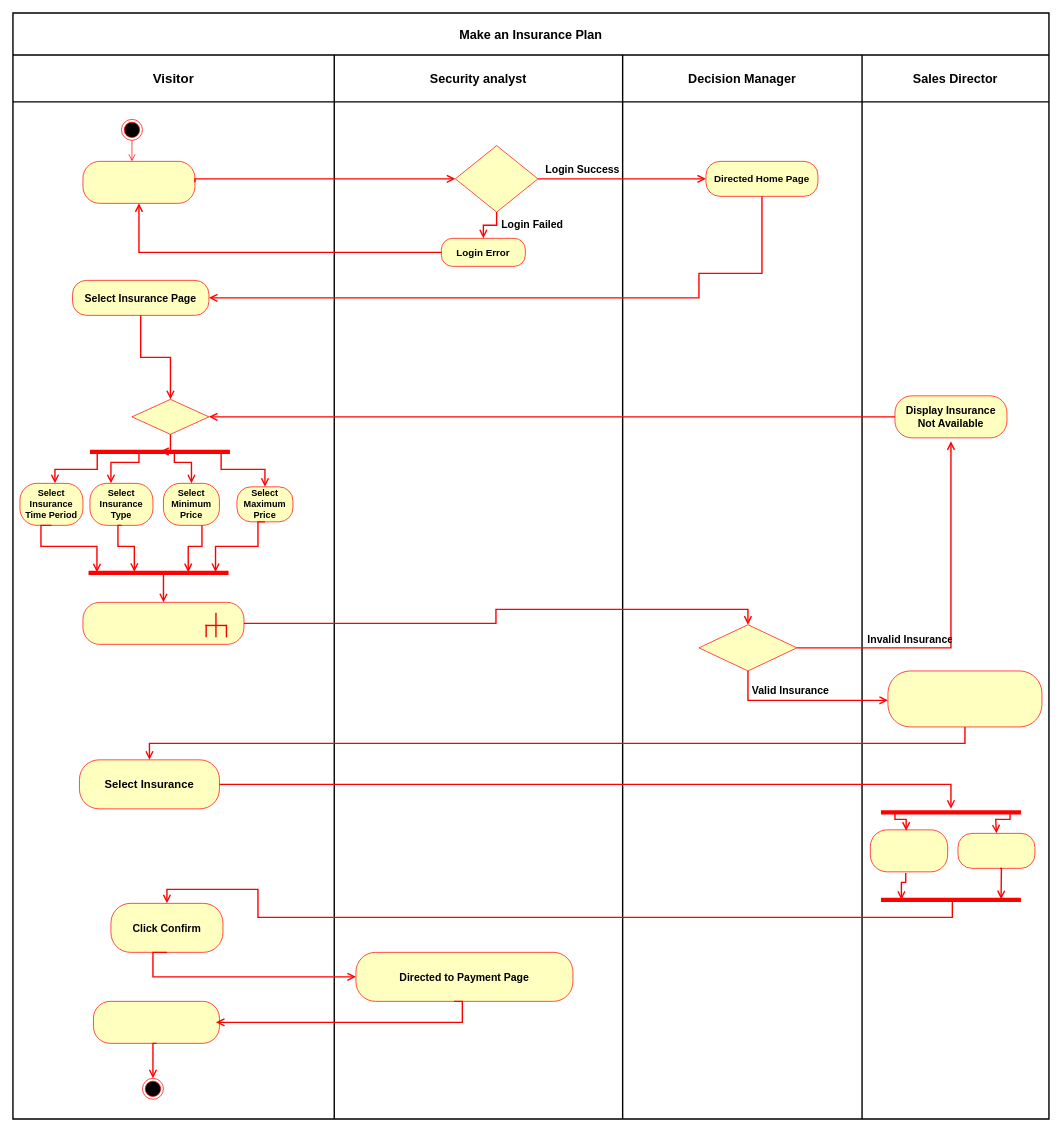
Image size: 1061x1131. Some labels were removed from this diagram. Each missing label, with the centre of its shape:
"Check Insurance Details" goes at (x=163, y=623).
"Display Insurances Details" goes at (x=964, y=698).
"Display Price" goes at (x=996, y=850).
"Display Terms and Condition" goes at (x=909, y=850).
"Log Out" goes at (x=156, y=1022).
"Login" goes at (x=138, y=182).
